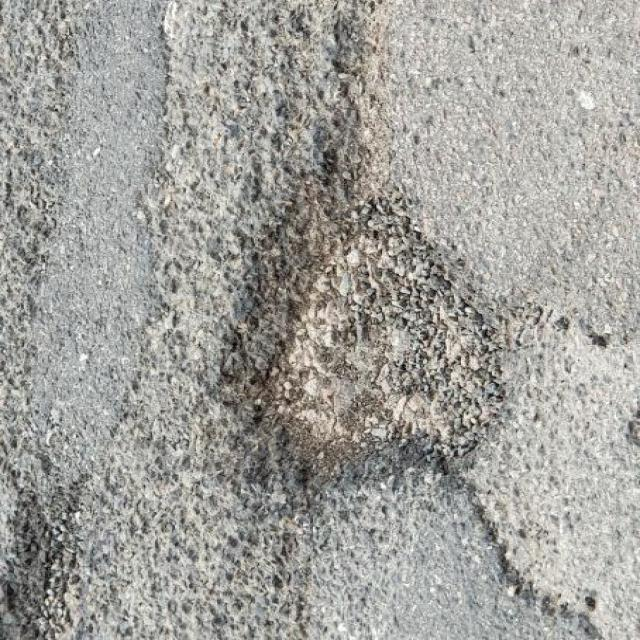pothole: (210, 145, 523, 500)
